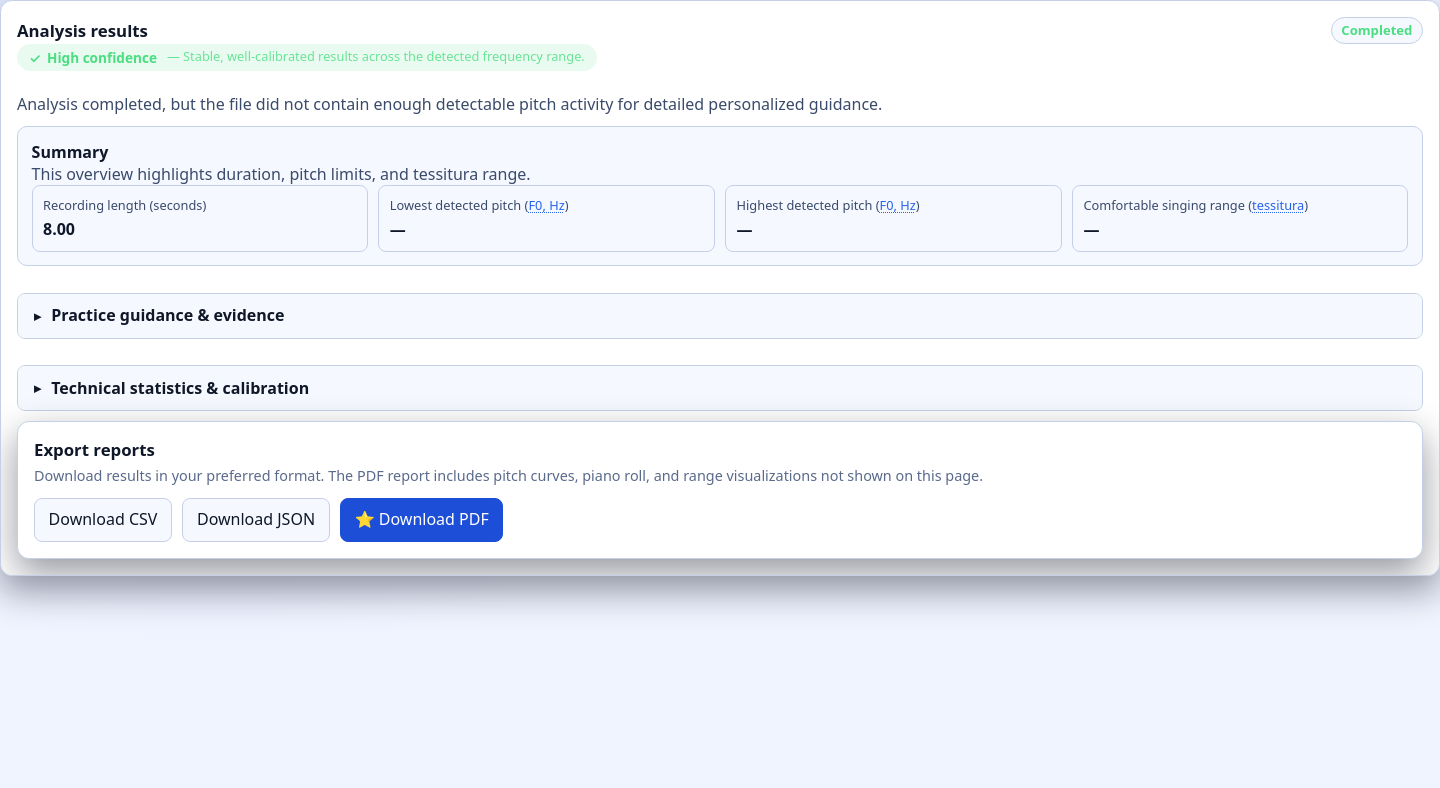
Test: AnalysisResults › renders reference calibration values from analysis.calibration.summary payload shape
The width and height of the screenshot is (1440, 788).
Click the heading "Technical statistics & calibration". click: coordinates (180, 388)
box: left=18, top=366, right=1422, bottom=410
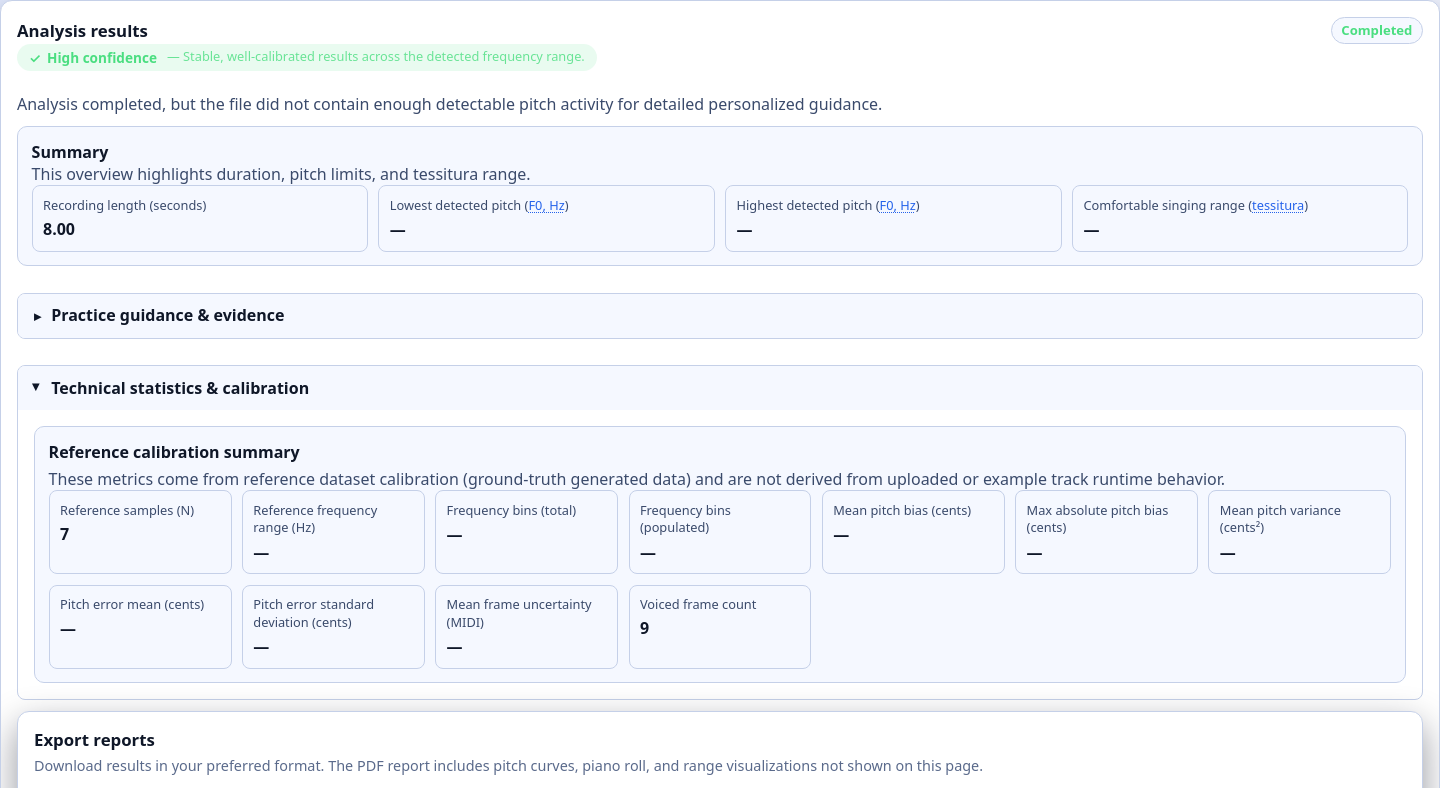
Expected: the text "Reference samples (N)" is shown, left=60, top=500, right=194, bottom=518
Expected: the text "Voiced frame count" is shown, left=640, top=595, right=756, bottom=613
Expected: the text "7" is shown, left=60, top=523, right=69, bottom=545
